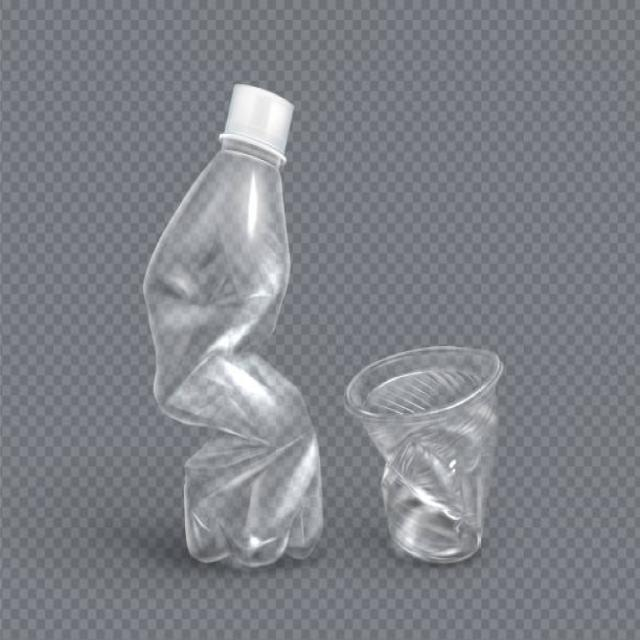plastic: (149, 86, 325, 566), (342, 345, 506, 566)
